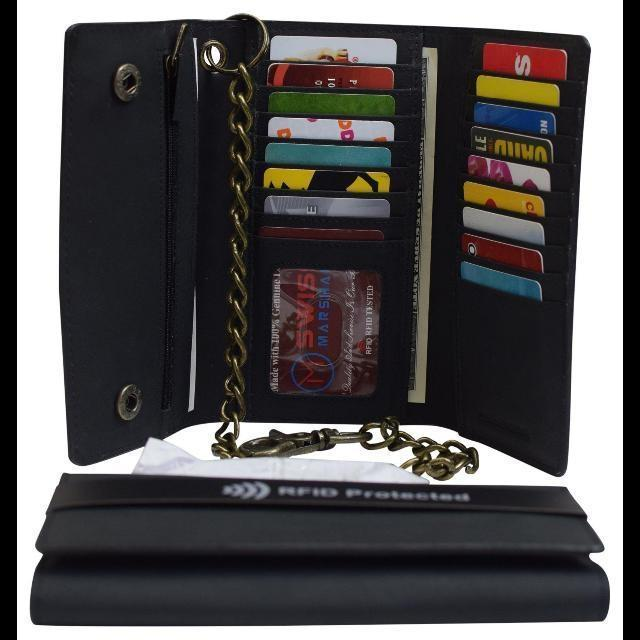Wallet: (40, 19, 592, 622), (31, 475, 609, 625)
